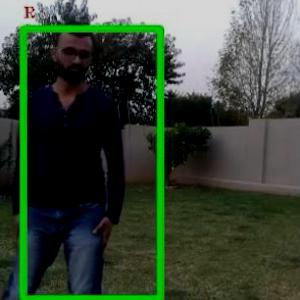follow: (24, 23, 126, 299)
